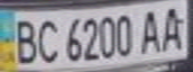0: (115, 10, 139, 58), (97, 11, 118, 60)
2: (78, 12, 100, 62)
6: (60, 14, 84, 63)
A: (157, 2, 190, 52), (136, 6, 166, 54)
B: (9, 15, 42, 65)
C: (33, 15, 60, 64)
